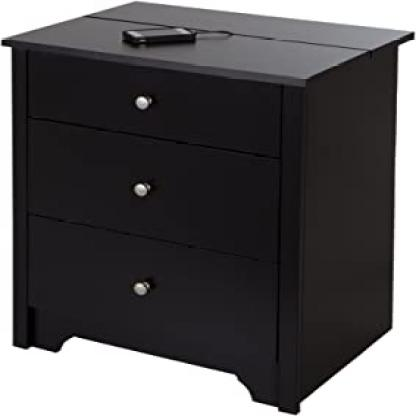Nightstand: (5, 1, 412, 416)
